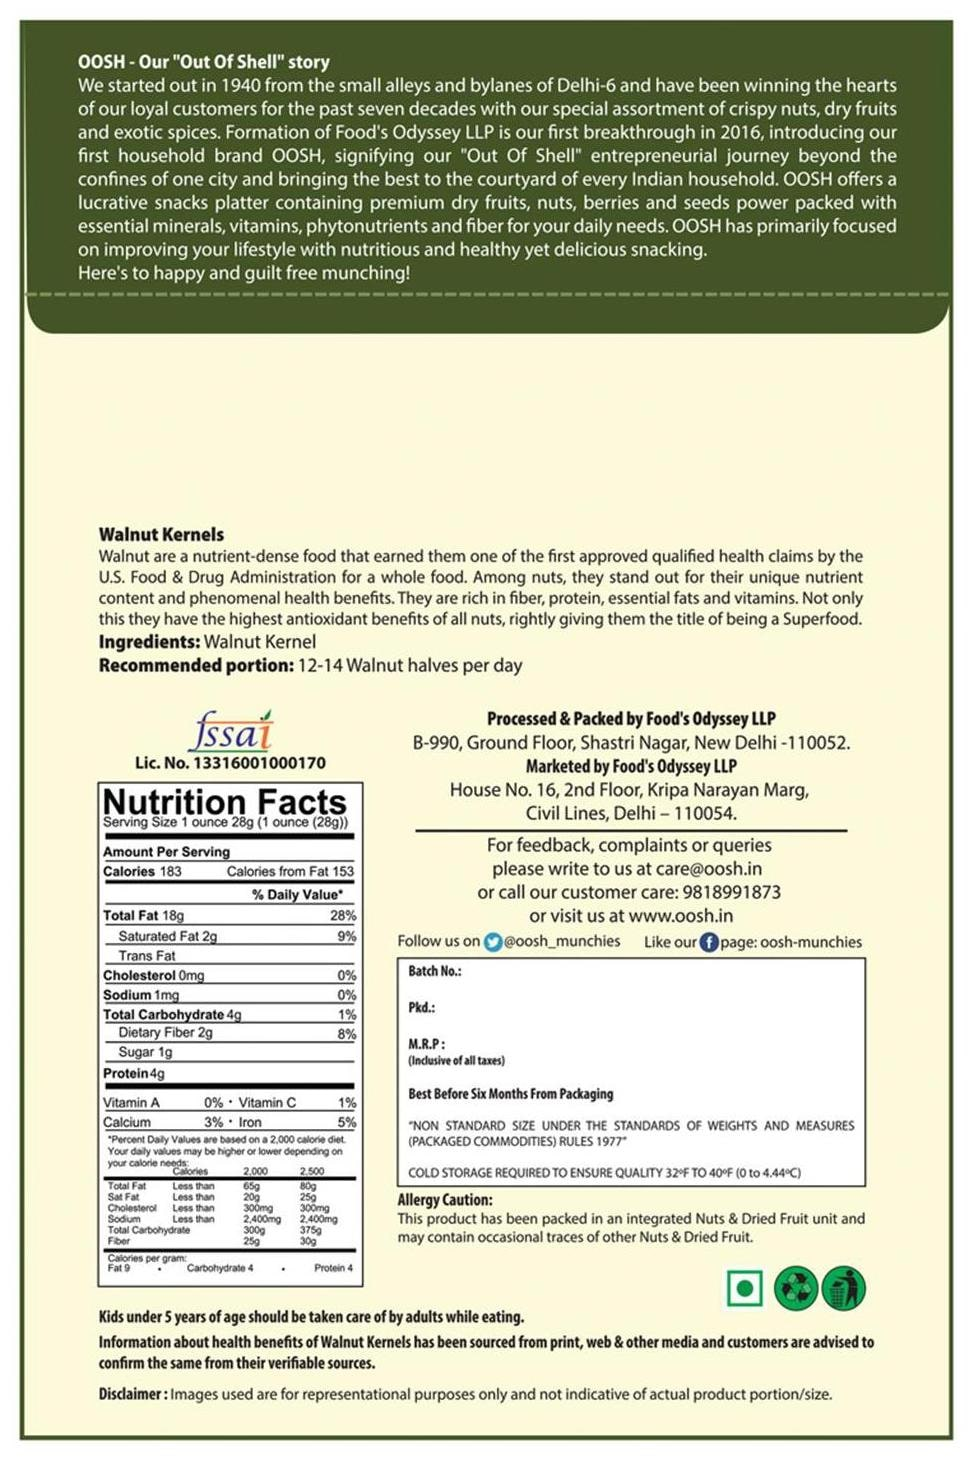fssai: (187, 709, 273, 752)
